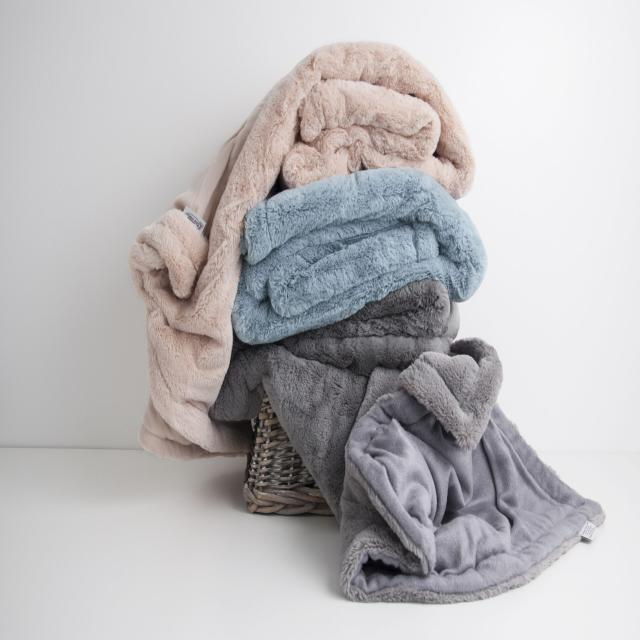blanket: (130, 42, 476, 460), (341, 340, 605, 603), (211, 280, 460, 521), (234, 169, 487, 345)
